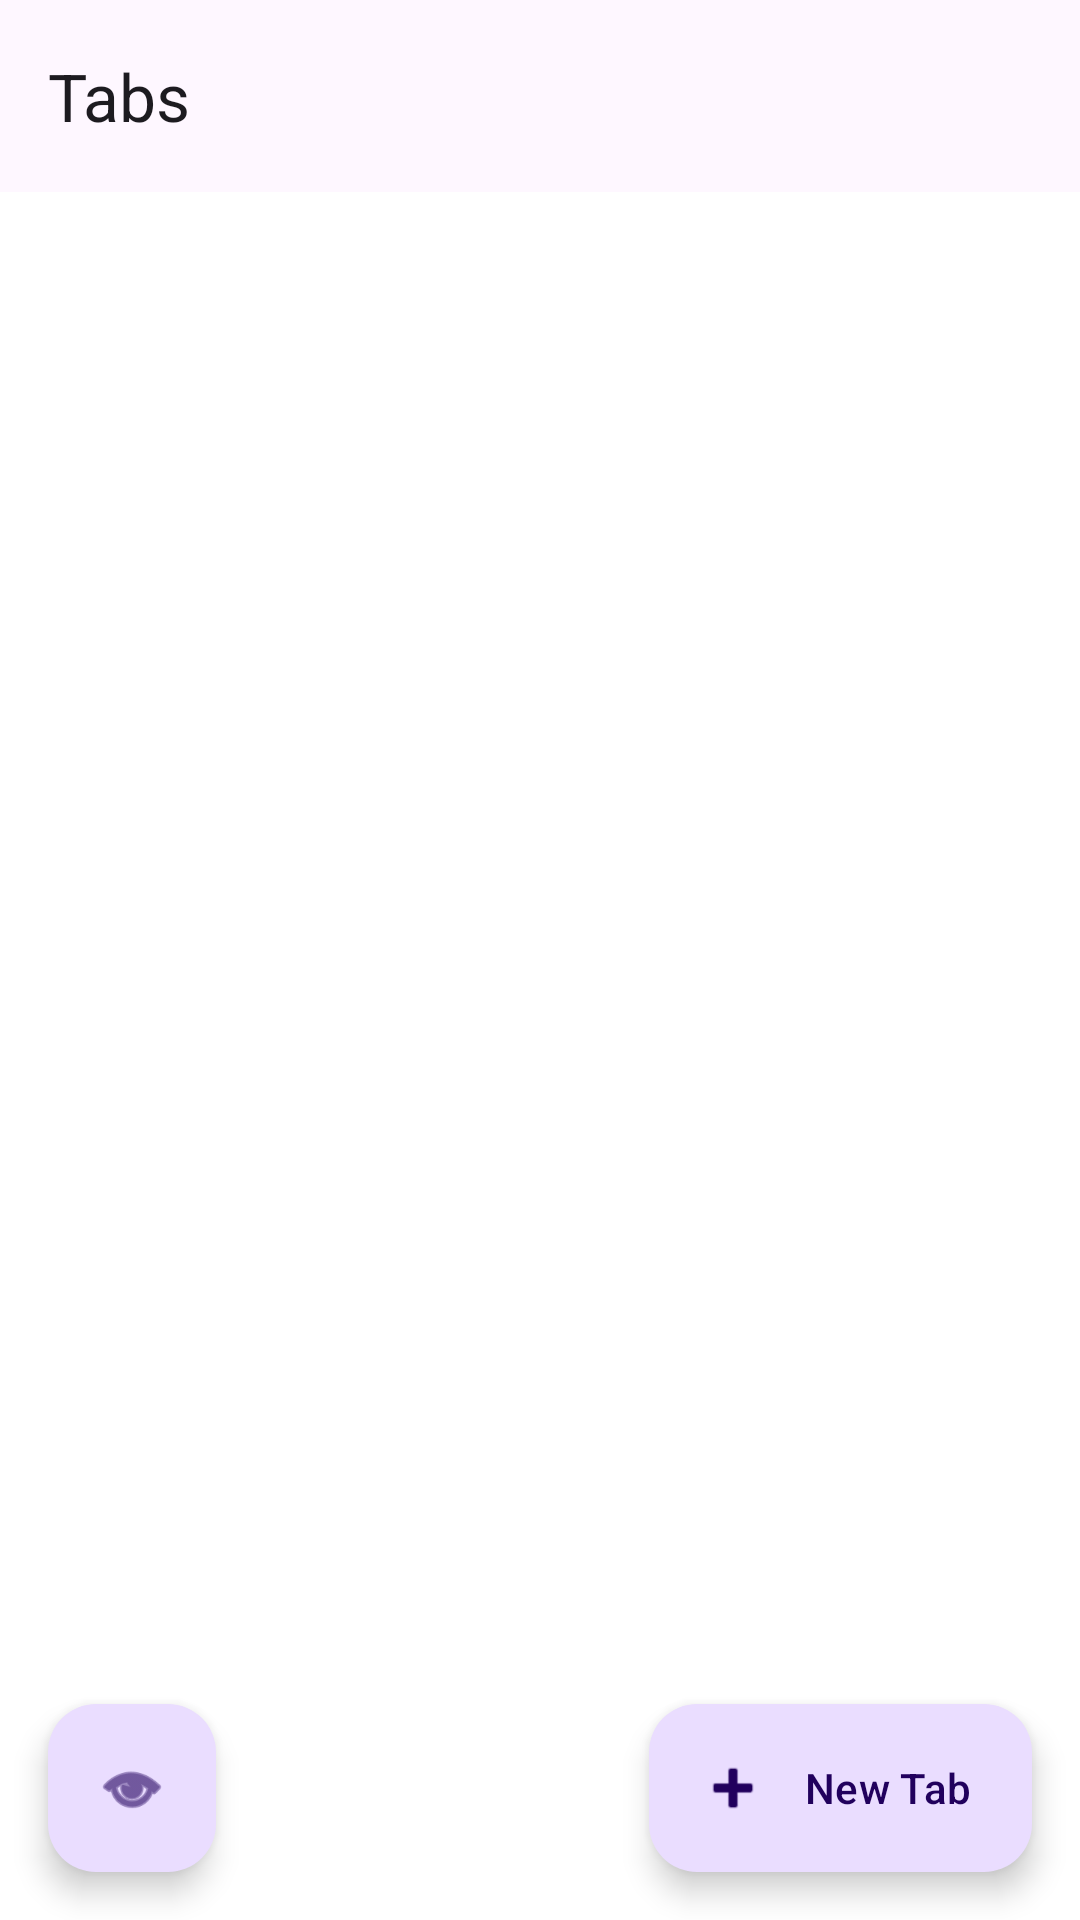

Where to tap for icons on this 1080w x 1920h app screen, as [x,y]:
Incognito Tab: [132,1788]
